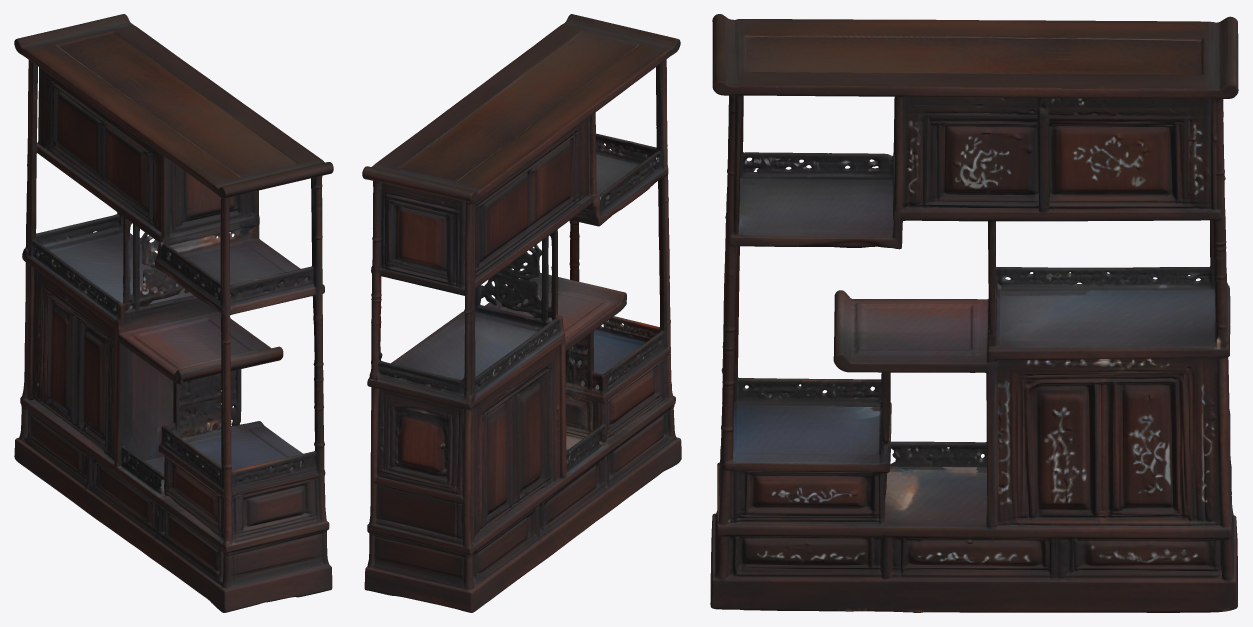
3 views of the same model, side by side, from view 1: azimuth 30°, elevation 25°; view 2: azimuth 150°, elevation 25°; view 3: azimuth 270°, elevation 25° (orthographic). The views are drawn at different scales.
Visible parts, largest first — view 1: tripo_node_46f080ab-7536-42aa-b6bc-6019ad21dc01; view 2: tripo_node_46f080ab-7536-42aa-b6bc-6019ad21dc01; view 3: tripo_node_46f080ab-7536-42aa-b6bc-6019ad21dc01.
Part boxes in pixels (left/top/right/bottom): tripo_node_46f080ab-7536-42aa-b6bc-6019ad21dc01: left=14, top=14, right=333, bottom=612; tripo_node_46f080ab-7536-42aa-b6bc-6019ad21dc01: left=362, top=14, right=681, bottom=612; tripo_node_46f080ab-7536-42aa-b6bc-6019ad21dc01: left=710, top=14, right=1238, bottom=612.
Bounding box in the file's own units: 0.2682 × 1 × 0.8924.
1 material, 1 textured.
